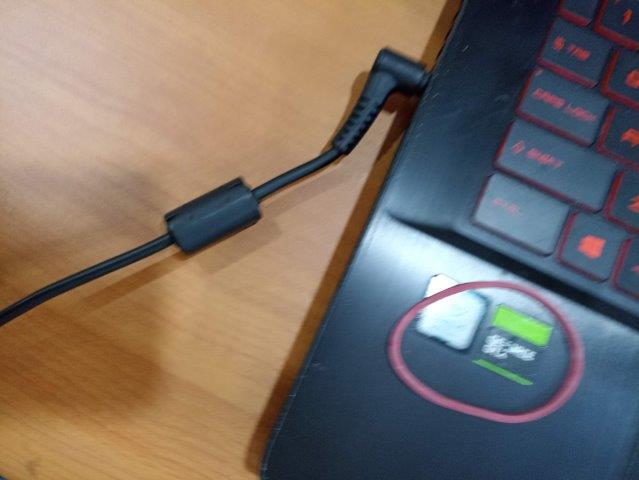karet: (387, 280, 587, 425)
